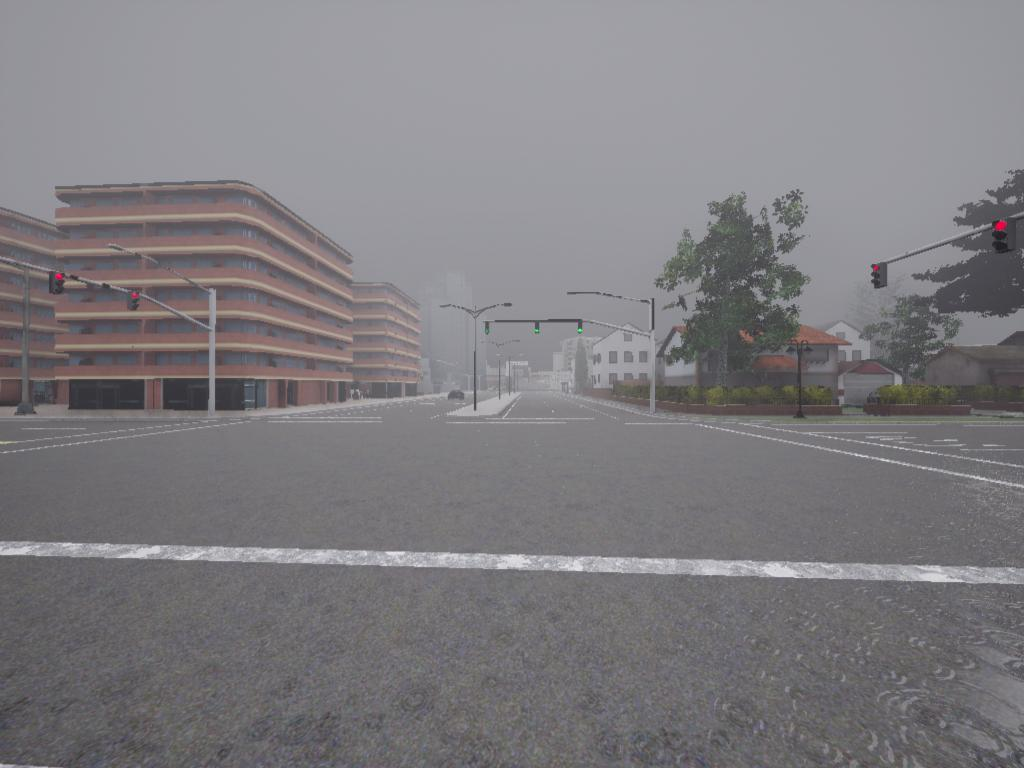traffic_light: (991, 220, 1012, 254), (873, 265, 887, 290), (52, 273, 65, 295), (131, 292, 142, 311), (485, 322, 491, 339), (579, 325, 587, 336), (536, 325, 544, 335), (577, 325, 583, 336)
